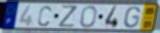4: (103, 5, 119, 30), (18, 4, 34, 28)
C: (37, 5, 53, 27)
G: (123, 6, 142, 29)
O: (79, 5, 98, 29)
Z: (58, 5, 78, 29)
